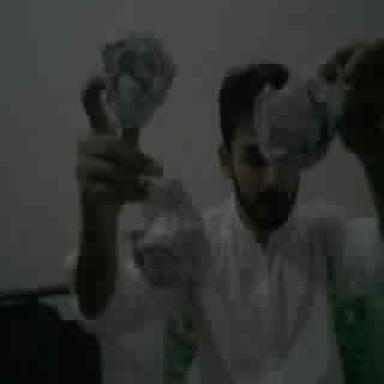paper: (253, 77, 343, 168), (129, 181, 202, 292), (103, 34, 175, 133)
